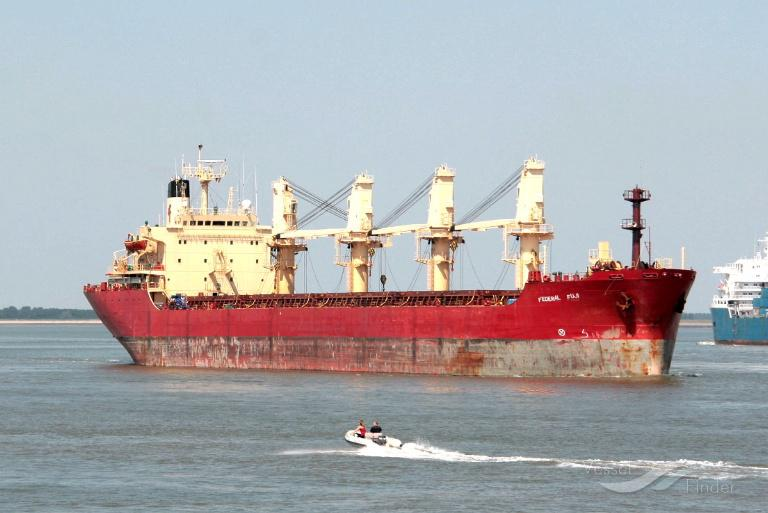OCR: (532, 288, 584, 307)
